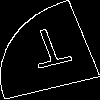T: (24, 25, 78, 78)
